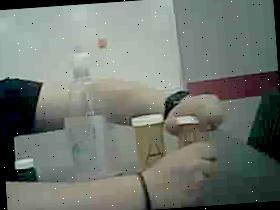Bottle A: (128, 108, 171, 182)
Bottle B: (172, 108, 214, 178)
Bottle C: (10, 150, 40, 192)
hazard: (51, 30, 126, 184)
